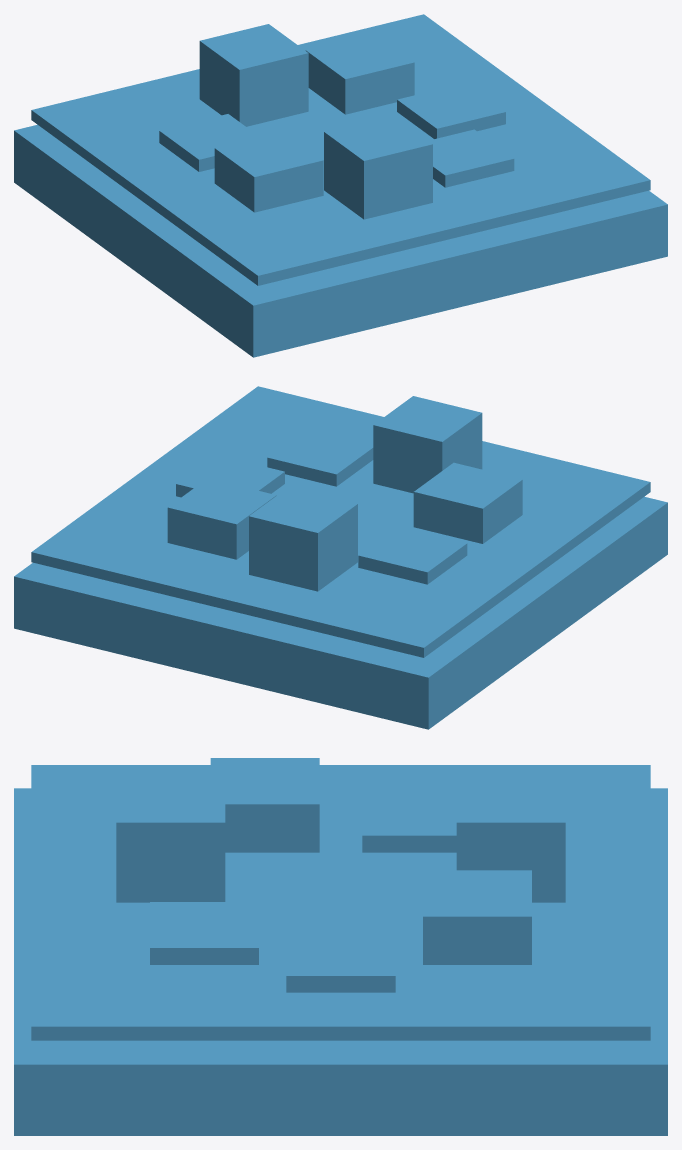
File: river.glb
The picture shows the model from 3 angles, top to bottom: view 1: azimuth 30°, elevation 25°; view 2: azimuth 150°, elevation 25°; view 3: azimuth 270°, elevation 25°; orthographic projection. The views are drawn at different scales.
Parts seen in each view (by area): view 1: river water, river base, river relief.005, river relief.002, river relief.004, river relief.001, river relief, river relief.006, river relief.003; view 2: river water, river base, river relief.002, river relief.005, river relief.004, river relief.001, river relief.003, river relief.006, river relief; view 3: river water, river base, river relief.005, river relief.002, river relief.001, river relief.004, river relief, river relief.006, river relief.003.
Boxes of the visible parts, <box> form: river water: <box>31,14,650,285</box>; river base: <box>14,124,667,357</box>; river relief.005: <box>324,115,432,219</box>; river relief.002: <box>199,24,308,126</box>; river relief.004: <box>214,131,323,212</box>; river relief.001: <box>305,33,414,114</box>; river relief: <box>397,83,505,138</box>; river relief.006: <box>428,129,514,187</box>; river relief.003: <box>159,114,259,171</box>; river water: <box>31,386,650,657</box>; river base: <box>14,496,667,729</box>; river relief.002: <box>249,487,357,591</box>; river relief.005: <box>373,396,482,493</box>; river relief.004: <box>413,462,522,543</box>; river relief.001: <box>167,478,276,559</box>; river relief.003: <box>358,526,467,584</box>; river relief.006: <box>267,428,373,486</box>; river relief: <box>176,455,284,497</box>; river water: <box>31,765,650,1040</box>; river base: <box>14,788,667,1135</box>; river relief.005: <box>116,776,225,902</box>; river relief.002: <box>456,776,565,902</box>; river relief.001: <box>423,870,531,964</box>; river relief.004: <box>210,758,319,852</box>; river relief: <box>286,929,395,992</box>; river relief.006: <box>150,902,258,964</box>; river relief.003: <box>362,789,456,852</box>.
Bounding box in the file's own units: 3 × 0.92 × 3.
